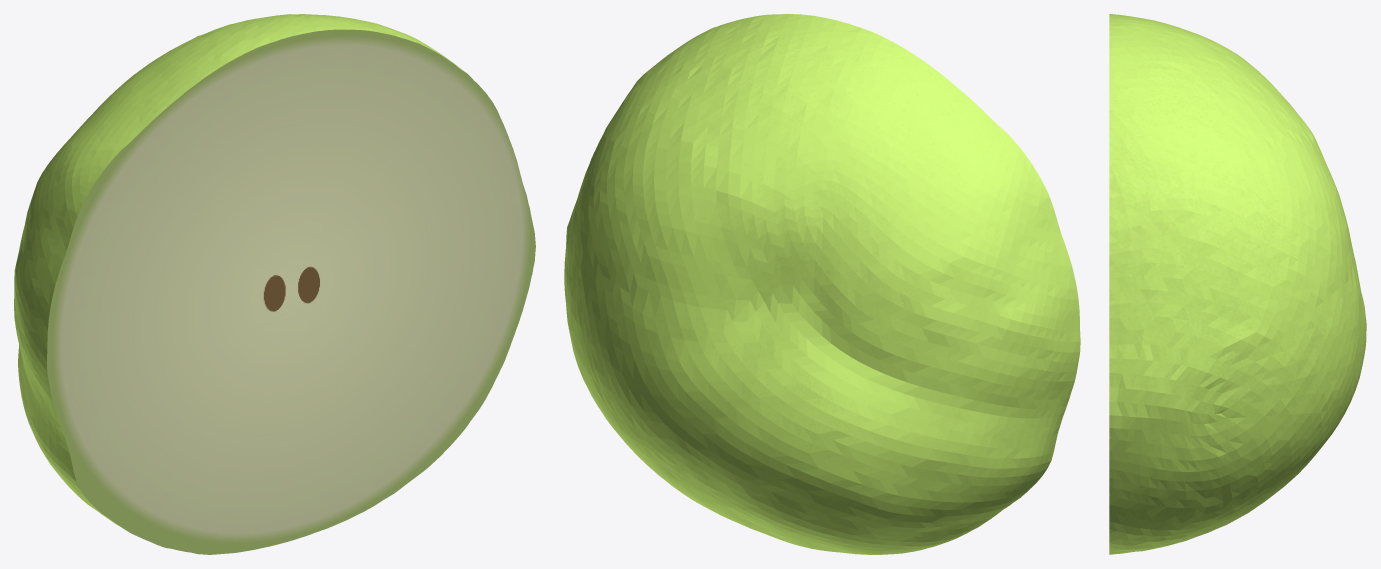
Rendered from shine_muscat_left.obj.
3 views of the same model, side by side, from view 1: azimuth 30°, elevation 25°; view 2: azimuth 150°, elevation 25°; view 3: azimuth 270°, elevation 25° (orthographic). The views are drawn at different scales.
Parts seen in each view (by area): view 1: fruit_half; view 2: fruit_half; view 3: fruit_half.
Boxes of the visible parts, <box> form: fruit_half: <box>14,14,535,554</box>; fruit_half: <box>564,14,1080,554</box>; fruit_half: <box>1109,14,1366,554</box>.
Bounding box in the file's own units: 1.61 × 1.59 × 0.751.
